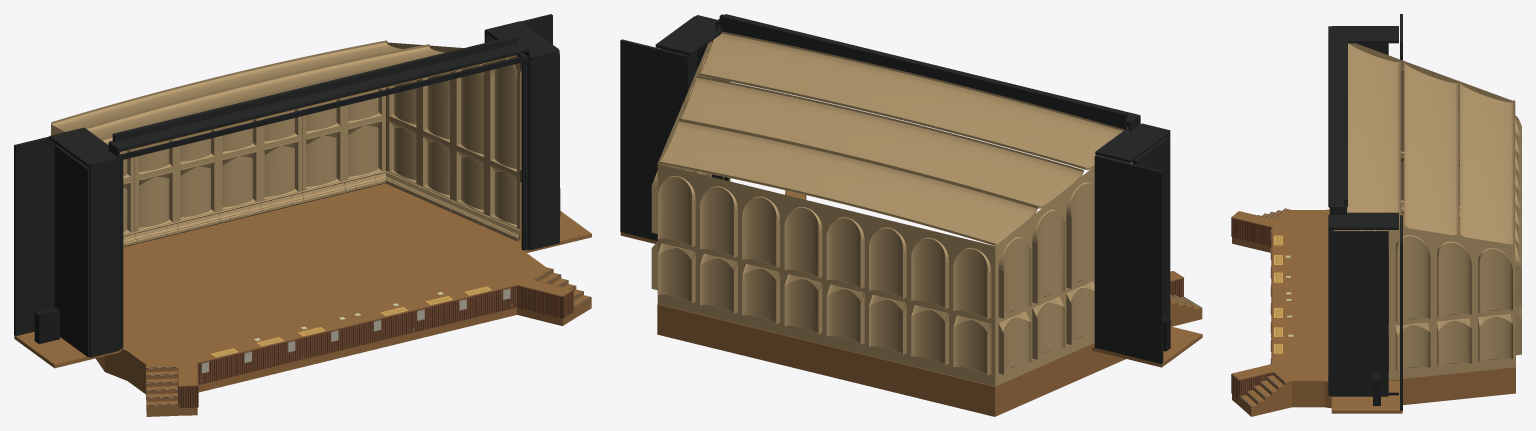
File: stage.glb
3 views of the same model, side by side, from view 1: azimuth 30°, elevation 25°; view 2: azimuth 150°, elevation 25°; view 3: azimuth 270°, elevation 25° (orthographic). The views are drawn at different scales.
Visible parts, largest first — view 1: bake_stage; view 2: bake_stage; view 3: bake_stage.
Boxes of the visible parts, x1=… form: bake_stage: x1=14, y1=14, x2=591, y2=416; bake_stage: x1=620, y1=14, x2=1202, y2=416; bake_stage: x1=1231, y1=14, x2=1521, y2=416.
Bounding box in the file's own units: 23.4 × 9.9 × 12.51.
17 materials, 4 textured.
